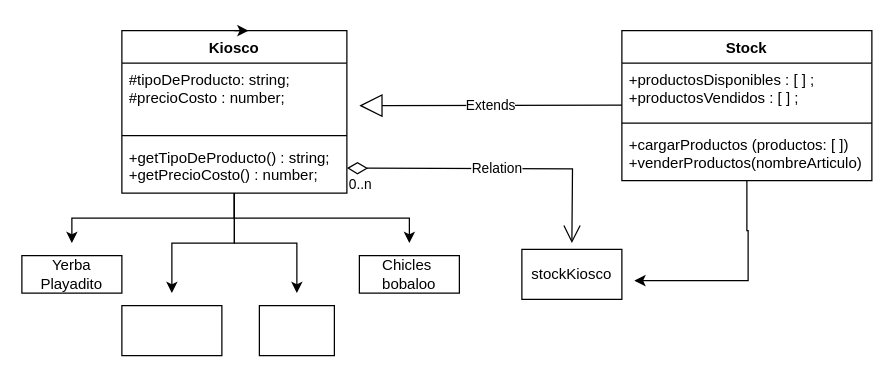
Image size: 894x378. Some labels were removed from this diagram. The shapes that lost their labels are listed below. From the top down, each one's box as (x1, y1, x2, y2) in pixels, then its label:
(121, 304, 222, 356): Alfajor fantoche
(258, 304, 334, 356): CocaCola
